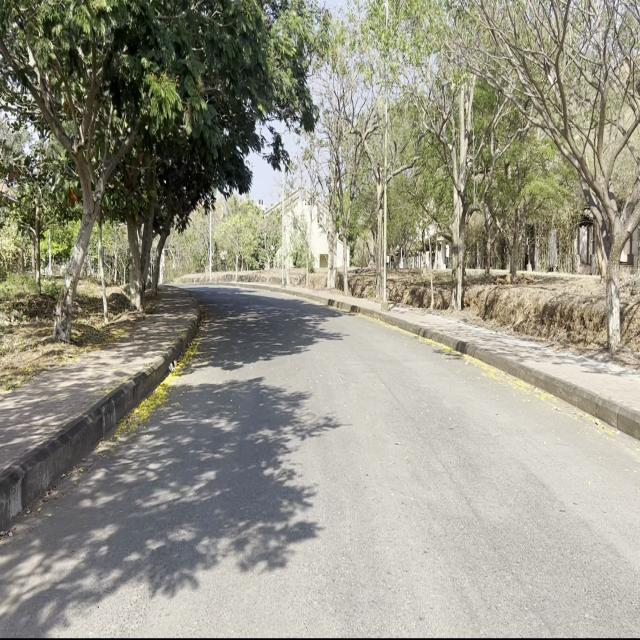Road: (5, 283, 634, 634)
